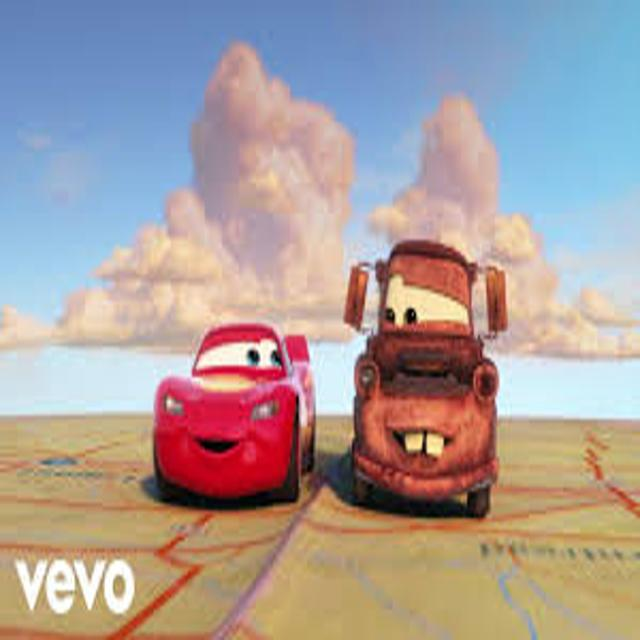car: (344, 240, 508, 518), (153, 324, 319, 504)
